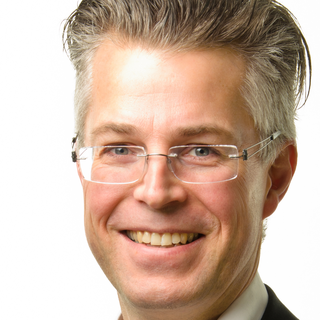eye: (97, 138, 141, 162), (173, 142, 225, 161)
